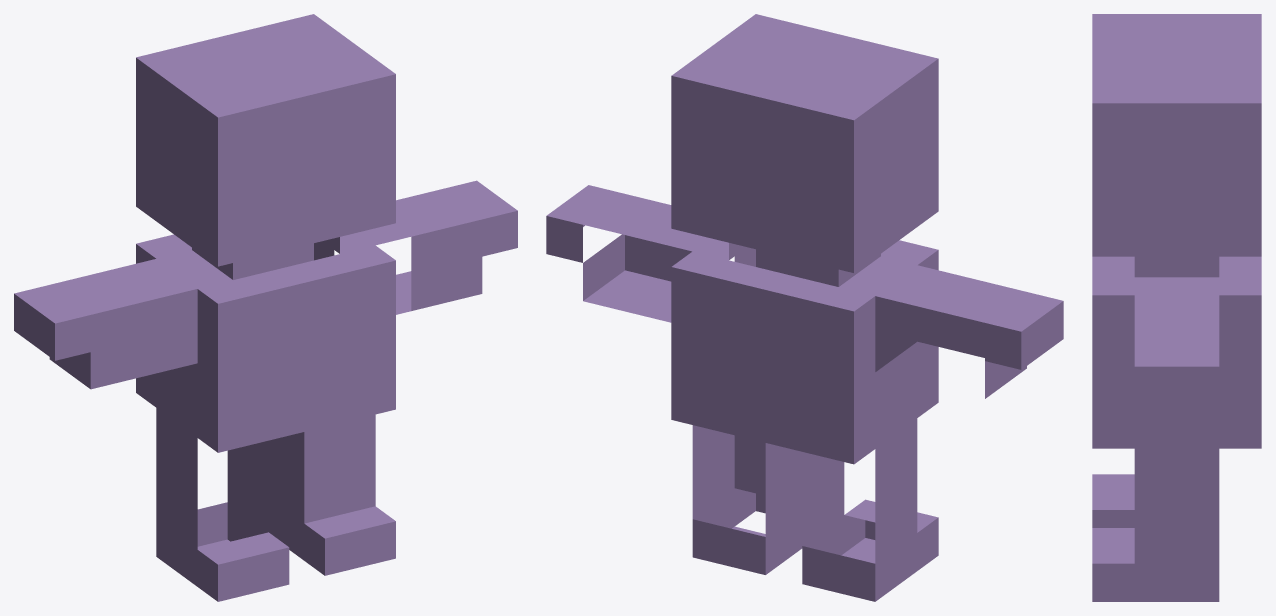
File: characteridea.obj
3 views of the same model, side by side, from view 1: azimuth 30°, elevation 25°; view 2: azimuth 150°, elevation 25°; view 3: azimuth 270°, elevation 25° (orthographic). The views are drawn at different scales.
Visible parts, largest first — view 1: Model; view 2: Model; view 3: Model.
Boxes of the visible parts, bbox=[...] form: Model: bbox=[14, 14, 517, 601]; Model: bbox=[546, 14, 1063, 601]; Model: bbox=[1092, 14, 1261, 601].
Bounding box in the file's own units: 32 × 32 × 9.85.
1 material, 1 textured.
